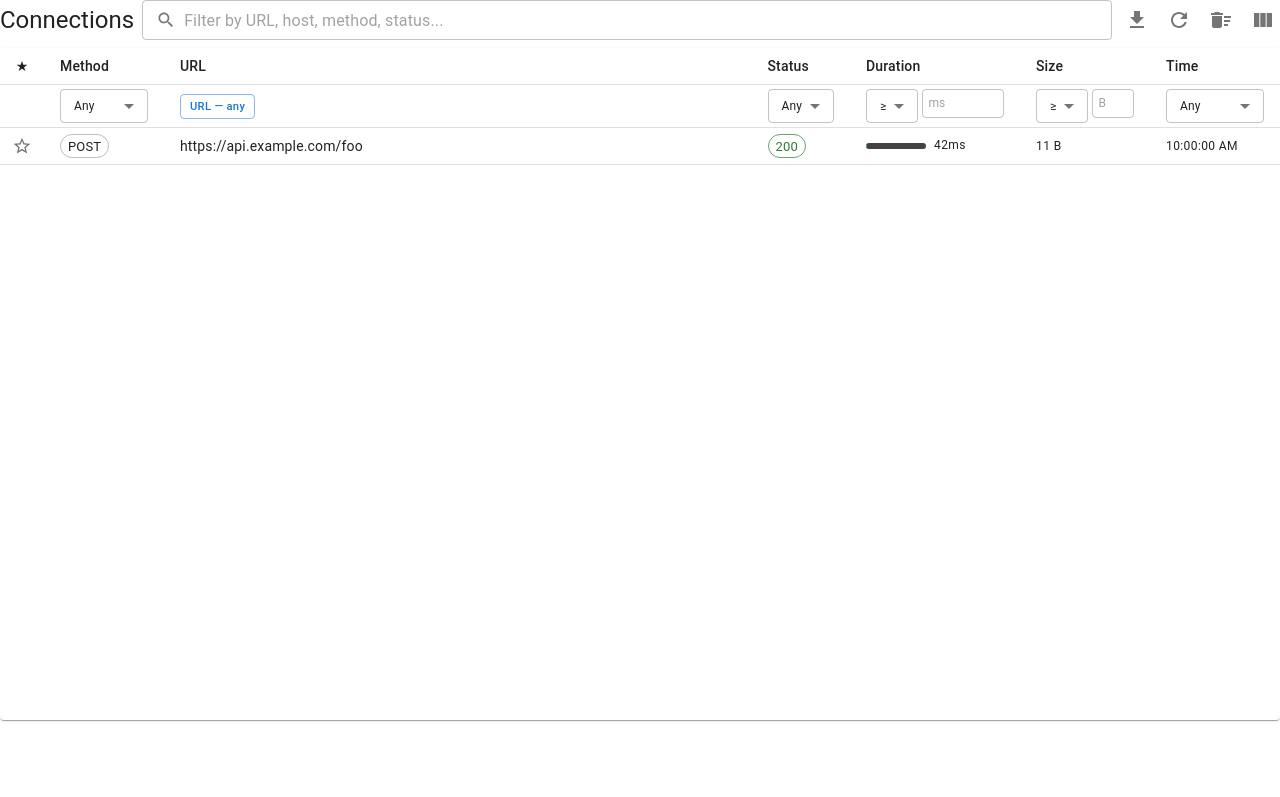
ConnectionsPage — body format / clipboard error toasts › saves a request body via the request-body-save button
The image size is (1280, 797).
Click the text "https://api.example.com/foo" at (458, 147), box [164,128,752,165]
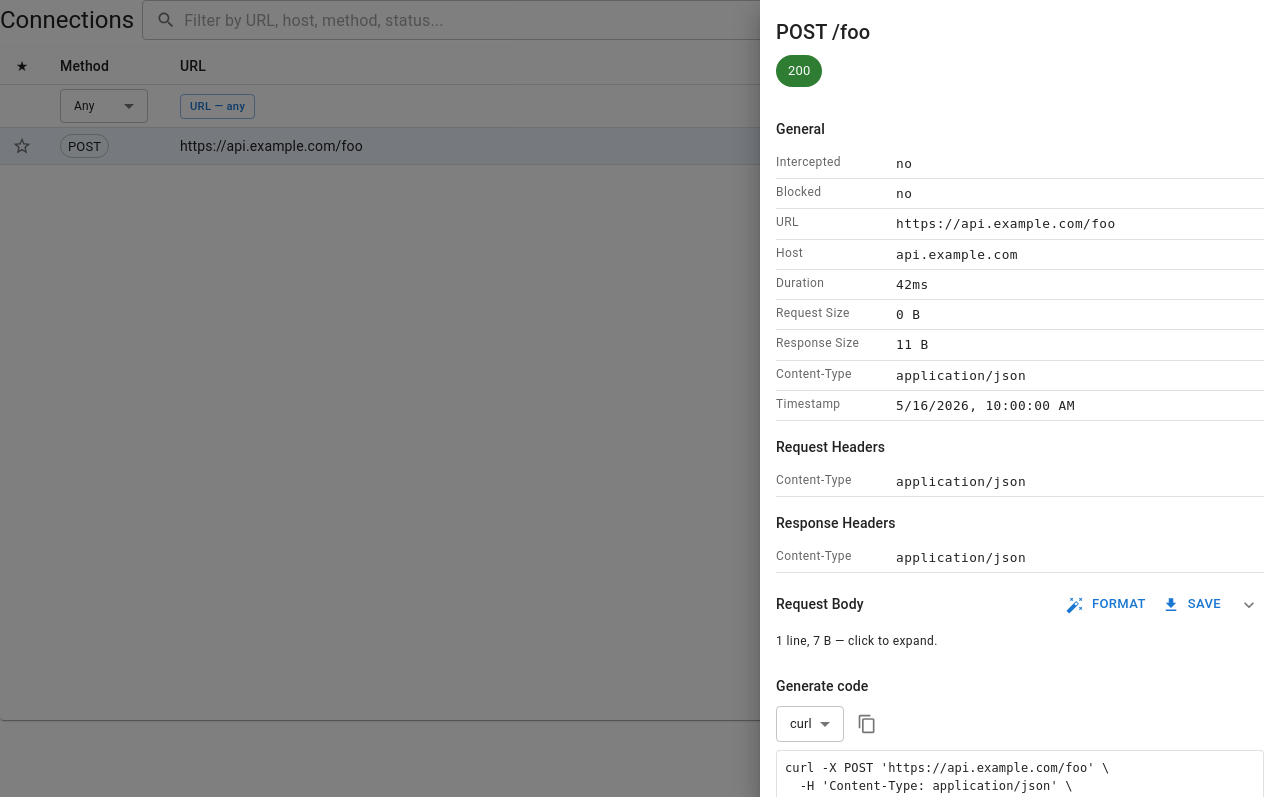
Click the button with test id "request-body-save" at (1192, 605), box [1159,590,1226,620]
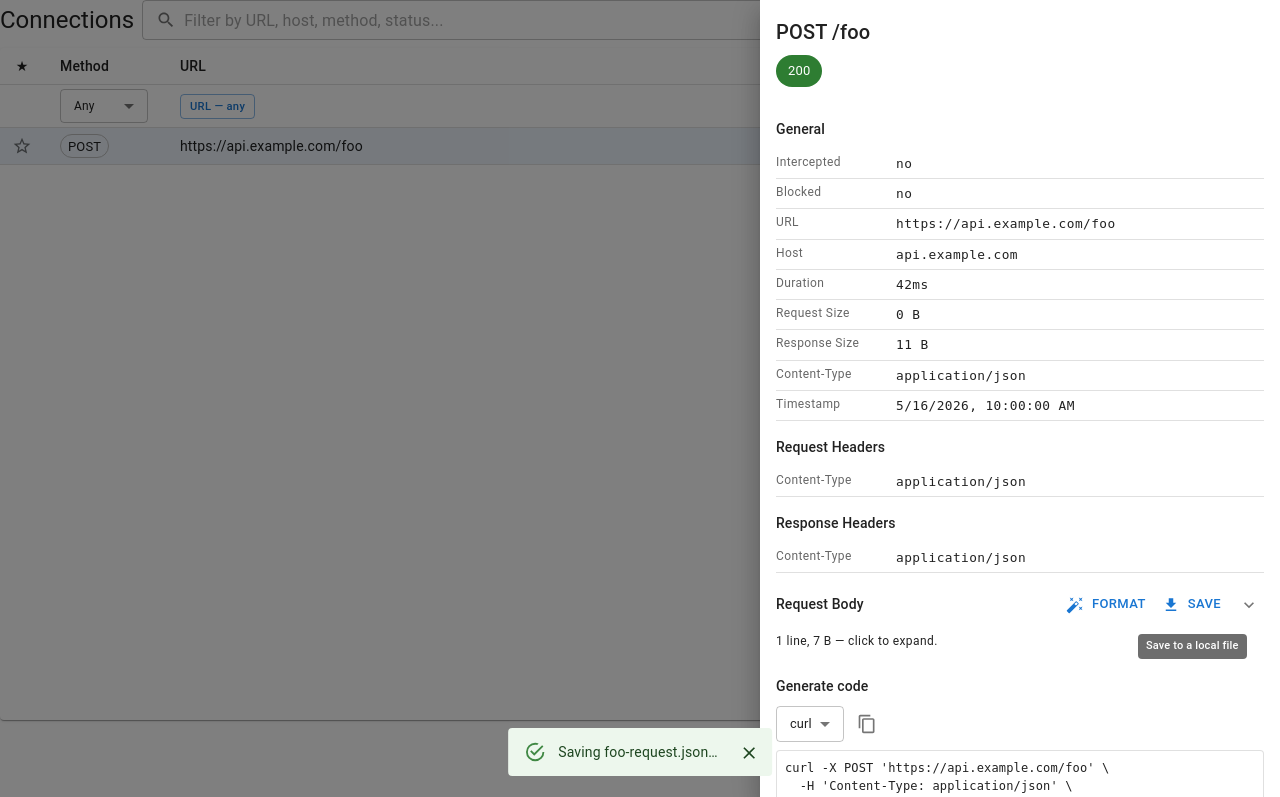
Result: the text "Saving foo-request.json…" is shown at [558,744,718,760]
